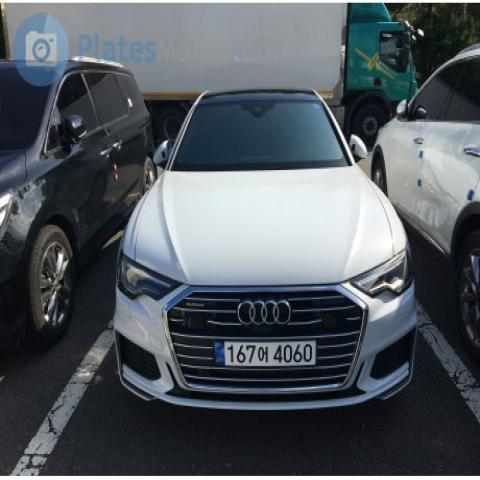LP: (214, 333, 324, 376)
